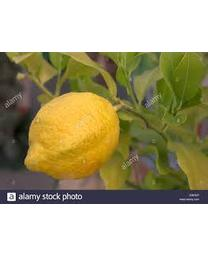lemon: (26, 92, 121, 178)
